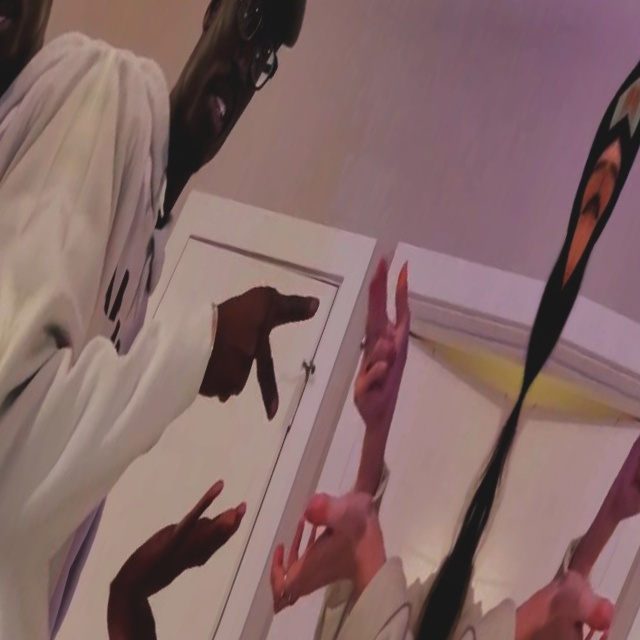Scissors: (321, 249, 442, 433), (190, 266, 322, 428)
